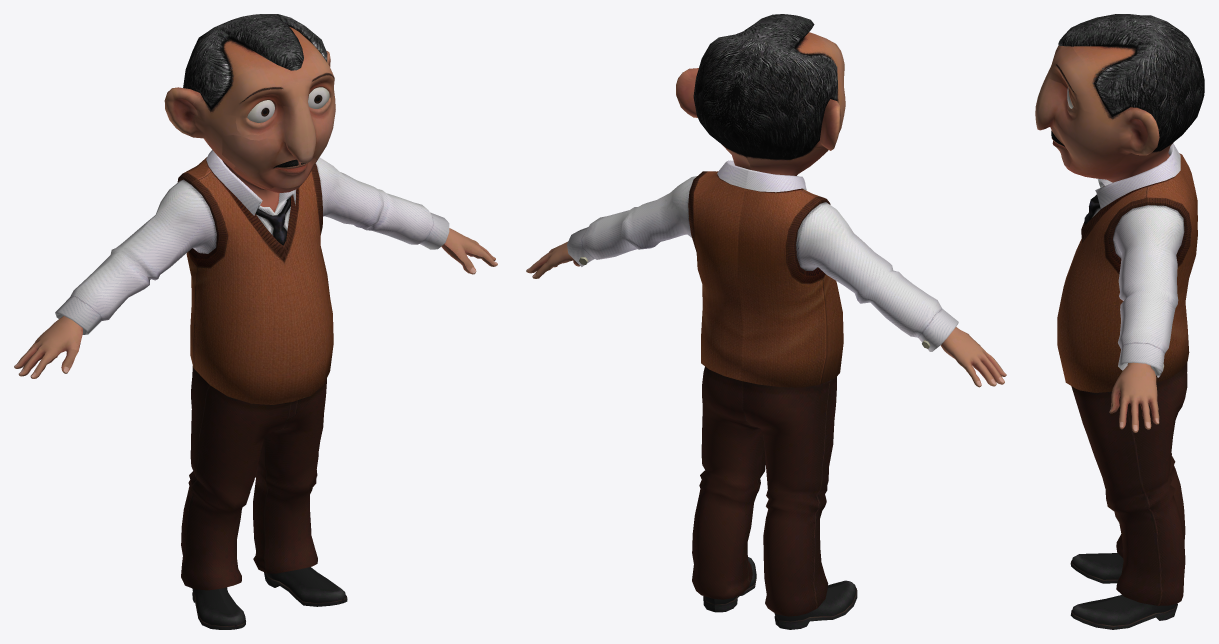
3 views of the same model, side by side, from view 1: azimuth 30°, elevation 25°; view 2: azimuth 150°, elevation 25°; view 3: azimuth 270°, elevation 25° (orthographic).
Visible parts, largest first — view 1: Object_2, Object_3, Object_4; view 2: Object_2, Object_4, Object_3; view 3: Object_2, Object_3, Object_4.
Part boxes in pixels (x1=…): Object_2: x1=55, y1=149, x2=449, y2=629; Object_3: x1=14, y1=26, x2=497, y2=378; Object_4: x1=183, y1=14, x2=327, y2=109; Object_2: x1=567, y1=160, x2=958, y2=629; Object_4: x1=693, y1=14, x2=837, y2=159; Object_3: x1=526, y1=32, x2=1006, y2=387; Object_2: x1=1057, y1=143, x2=1197, y2=629; Object_3: x1=1035, y1=45, x2=1173, y2=432; Object_4: x1=1058, y1=14, x2=1204, y2=151.
Bounding box in the file's own units: 2.13 × 2.49 × 0.6605.
3 materials, 3 textured.
